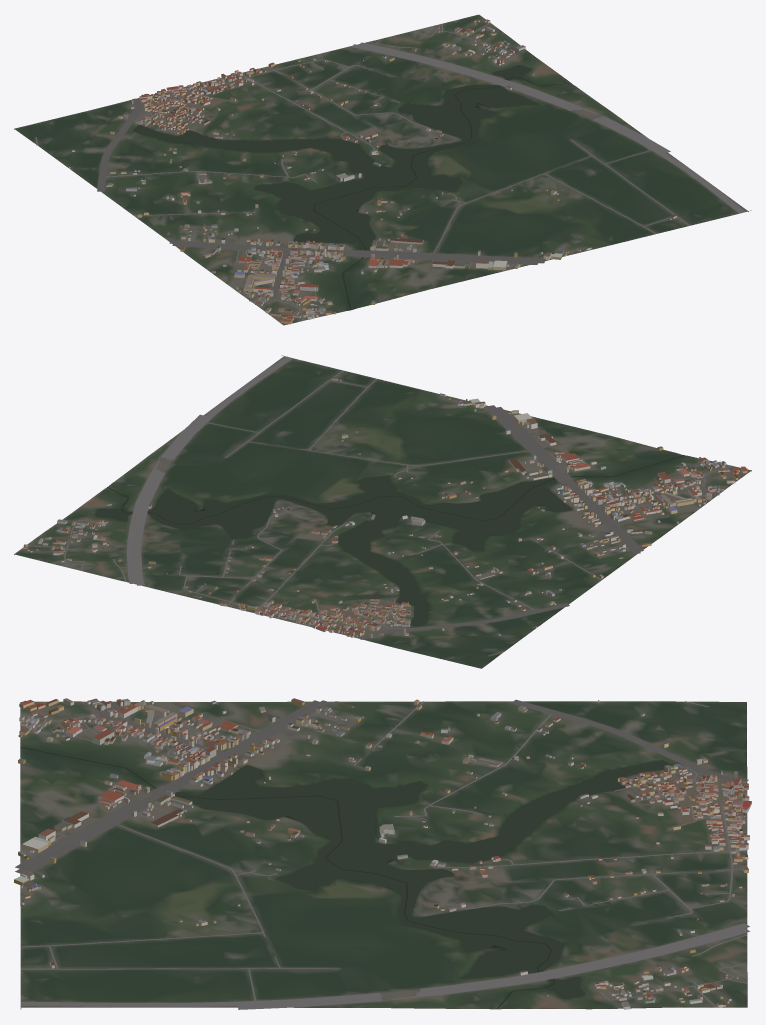
The picture shows the model from 3 angles, top to bottom: view 1: azimuth 30°, elevation 25°; view 2: azimuth 150°, elevation 25°; view 3: azimuth 270°, elevation 25°; orthographic projection. The views are drawn at different scales.
Parts seen in each view (by area): view 1: ground, water, buildings, roads; view 2: ground, water, buildings, roads; view 3: ground, water, buildings, roads.
Part boxes in pixels (<box>): ground: <box>14,14,748,325</box>; water: <box>132,65,571,309</box>; buildings: <box>69,19,676,324</box>; roads: <box>35,22,751,320</box>; ground: <box>14,356,751,668</box>; water: <box>95,455,684,625</box>; buildings: <box>23,377,747,638</box>; roads: <box>28,355,731,656</box>; ground: <box>20,701,747,1009</box>; water: <box>20,747,672,1008</box>; buildings: <box>14,698,751,1009</box>; roads: <box>15,699,749,1009</box>.
Bounding box in the file's own units: 1417 × 25.08 × 1423.
